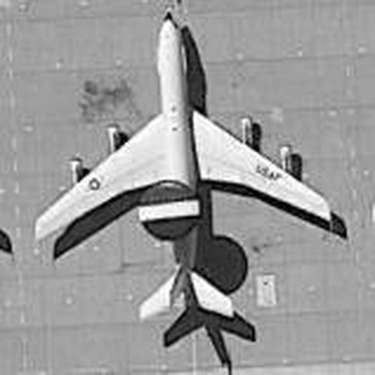airplane: (22, 8, 346, 333)
